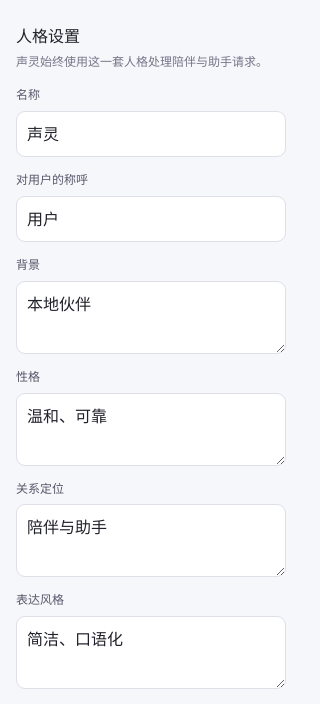
Test: loads and saves the single active persona
Replace the text in the field labelled "名称" with "小灵" at (151, 134), box [16,111,286,157]
(page scrolled)
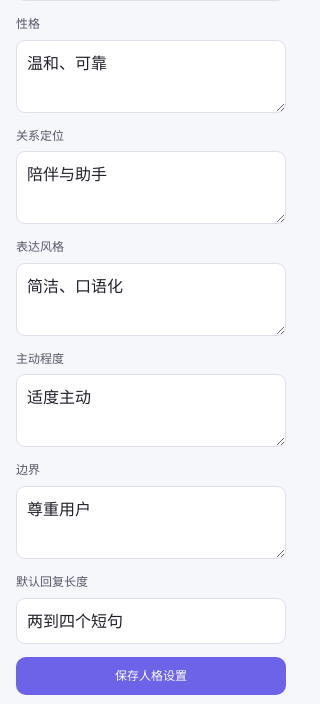
Click the button "保存人格设置" at (151, 676), box [16,657,286,695]
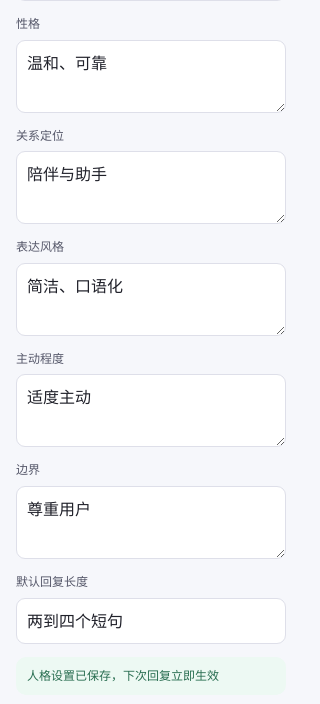
Check: the text "人格设置已保存，下次回复立即生效" is shown, box [16,657,286,695]
